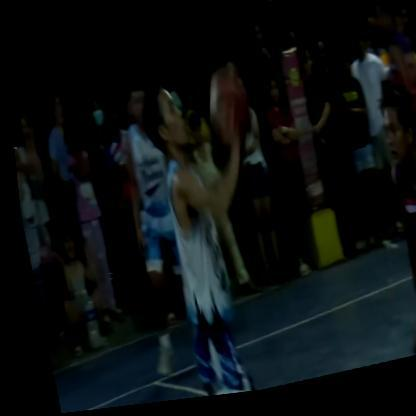basketball: (195, 60, 261, 172)
